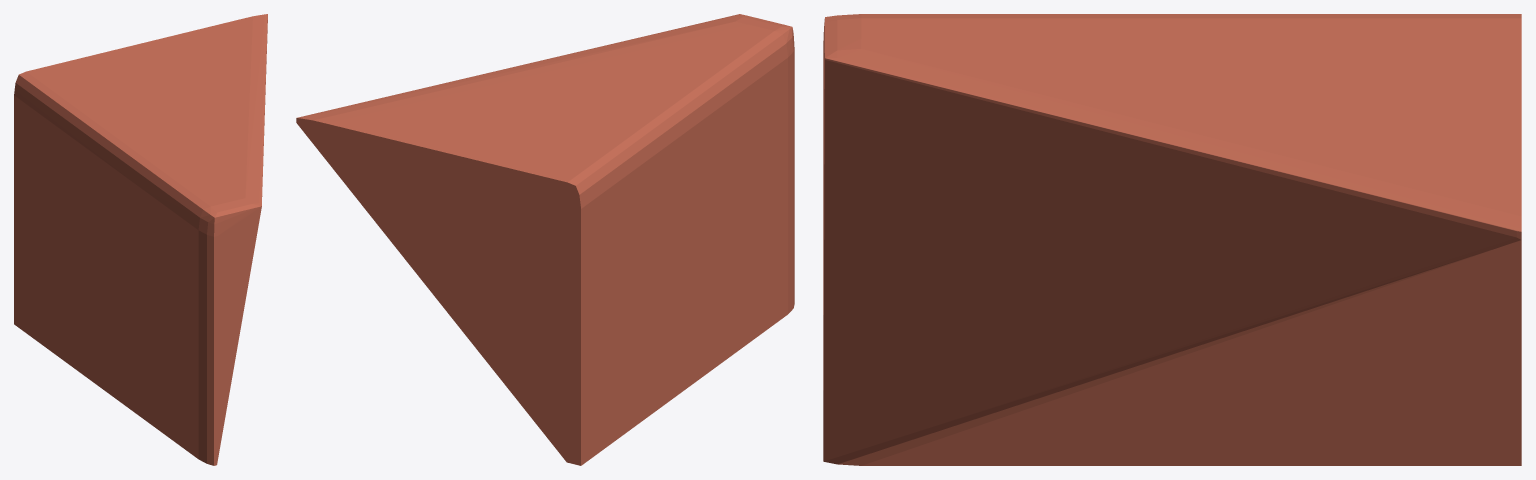
File: right_hip_yaw_link_part_9.obj
3 views of the same model, side by side, from view 1: azimuth 30°, elevation 25°; view 2: azimuth 150°, elevation 25°; view 3: azimuth 270°, elevation 25° (orthographic). The views are drawn at different scales.
Bounding box in the file's own units: 0.0276 × 0.026 × 0.0368.
